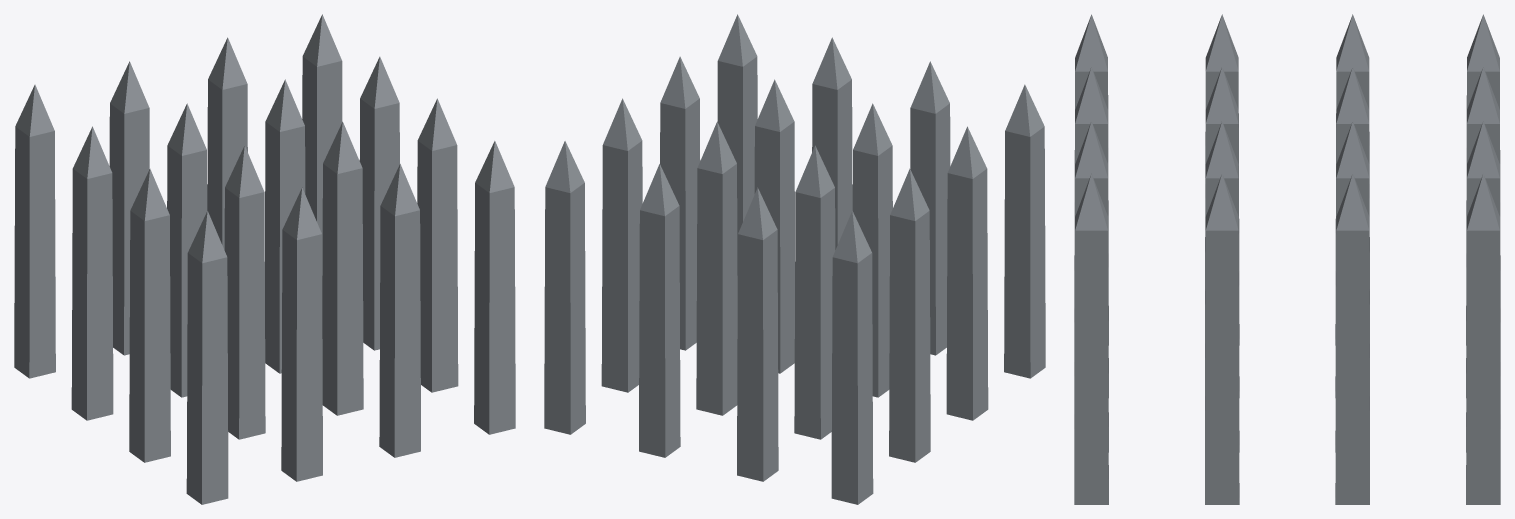
File: SM_Obstacle_01_A_Spike.fbx
3 views of the same model, side by side, from view 1: azimuth 30°, elevation 25°; view 2: azimuth 150°, elevation 25°; view 3: azimuth 270°, elevation 25° (orthographic). The views are drawn at different scales.
Visible parts, largest first — view 1: pCube554; view 2: pCube554; view 3: pCube554.
Part boxes in pixels (x1,y1,x2,y2): pCube554: [14, 14, 515, 504]; pCube554: [544, 14, 1045, 504]; pCube554: [1074, 14, 1500, 504].
Bounding box in the file's own units: 72.87 × 63.43 × 75.55.
Materials: 1 (1 with a texture image).
